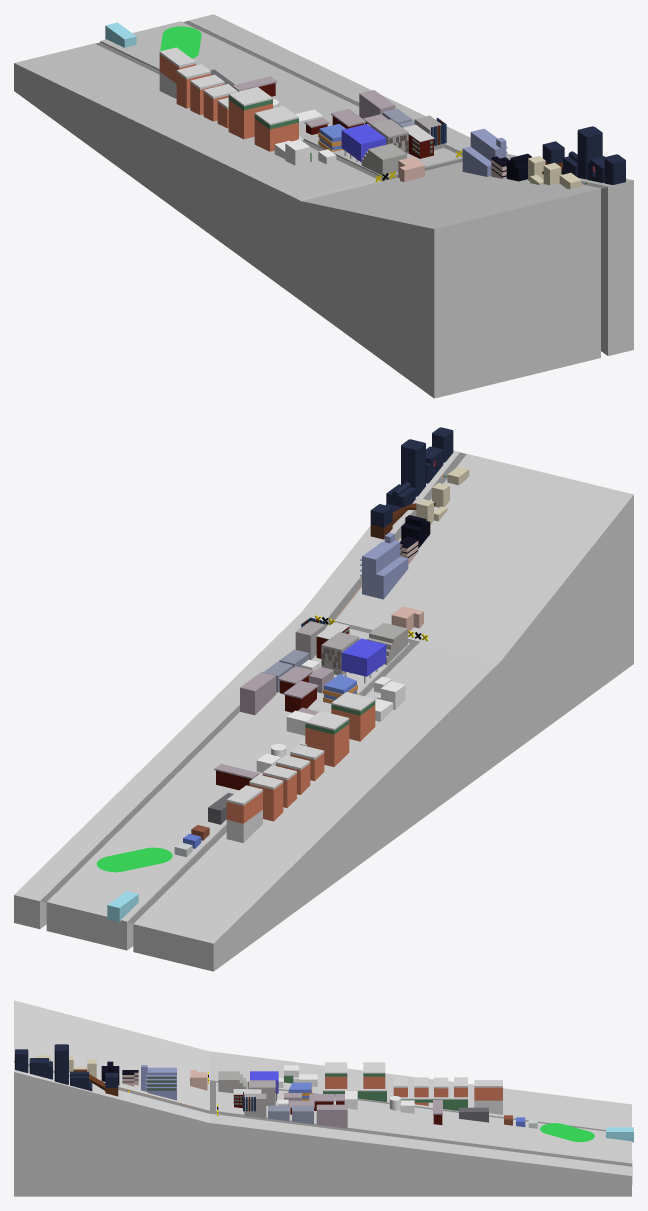
File: seoul.fbx
3 views of the same model, one above another, from view 1: azimuth 30°, elevation 25°; view 2: azimuth 150°, elevation 25°; view 3: azimuth 270°, elevation 25° (orthographic). The views are drawn at different scales.
Parts seen in each view (by area): view 1: Cube.012, Cube.008, Cube.026, Cube.040, Cylinder.001, Cube.122, Cube.003, Cube.032, BézierCircle.001, Cube.041, Cube.006, Cube.101 (+10 smaller); view 2: Cube.012, Cube.040, Cube.008, Cube.122, Cube.026, Cylinder.001, BézierCircle.001, Cube.003, Cube.101, Cube.041, Cube.032, Cube.115 (+4 smaller); view 3: Cube.012, Cube.040, Cube.122, Cube.101, BézierCircle.001, Cube.008, Cube.026, Cube.003, Cube.094, Cube.032, Cube.121, Cube.123 (+17 smaller).
Part boxes in pixels (left/top/right/bottom): Cube.012: left=14, top=14, right=633, bottom=398; Cube.008: left=228, top=87, right=272, bottom=139; Cube.026: left=254, top=106, right=298, bottom=151; Cube.040: left=462, top=128, right=506, bottom=176; Cylinder.001: left=341, top=124, right=386, bottom=162; Cube.122: left=159, top=47, right=195, bottom=98; Cube.003: left=577, top=126, right=602, bottom=179; Cube.032: left=361, top=143, right=406, bottom=175; BézierCircle.001: left=160, top=26, right=201, bottom=58; Cube.041: left=176, top=64, right=210, bottom=108; Cube.006: left=403, top=124, right=434, bottom=158; Cube.101: left=359, top=90, right=395, bottom=118; Cube.012: left=14, top=450, right=633, bottom=971; Cube.040: left=362, top=532, right=408, bottom=599; Cube.008: left=305, top=711, right=349, bottom=766; Cube.122: left=226, top=785, right=262, bottom=843; Cube.026: left=331, top=692, right=375, bottom=741; Cylinder.001: left=341, top=638, right=386, bottom=683; BézierCircle.001: left=96, top=847, right=172, bottom=872; Cube.003: left=401, top=439, right=425, bottom=496; Cube.101: left=240, top=672, right=276, bottom=715; Cube.041: left=249, top=774, right=283, bottom=821; Cube.032: left=367, top=622, right=407, bottom=664; Cube.115: left=321, top=632, right=359, bottom=675; Cube.012: left=14, top=1000, right=632, bottom=1196; Cube.040: left=141, top=1065, right=176, bottom=1100; Cube.122: left=474, top=1080, right=502, bottom=1114; Cube.101: left=316, top=1104, right=347, bottom=1128; BézierCircle.001: left=540, top=1123, right=594, bottom=1141; Cube.008: left=363, top=1062, right=385, bottom=1088; Cube.026: left=325, top=1062, right=347, bottom=1088; Cube.003: left=54, top=1044, right=68, bottom=1084; Cube.094: left=243, top=1092, right=266, bottom=1118; Cube.032: left=218, top=1071, right=248, bottom=1093; Cube.121: left=323, top=1088, right=386, bottom=1102; Cube.123: left=400, top=1097, right=467, bottom=1110.
Size of the model in its own units: 20064 by 18937 by 73357.
